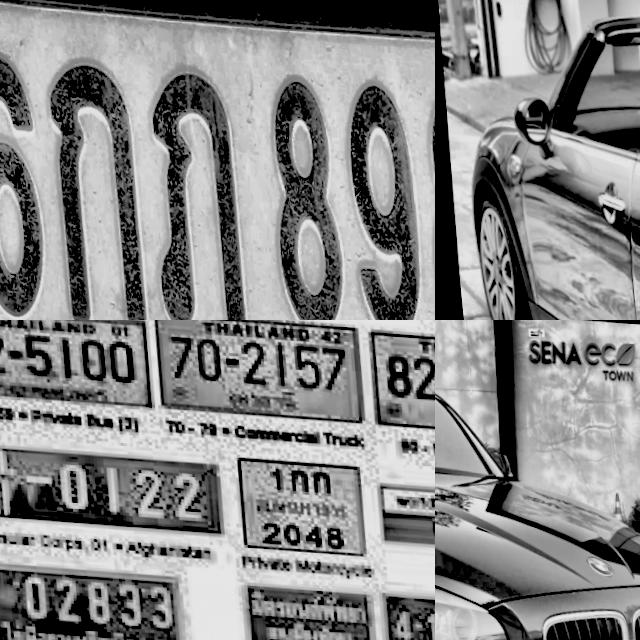license-plate: (0, 0, 435, 320), (145, 320, 358, 417), (227, 455, 357, 548), (0, 320, 145, 401), (361, 322, 435, 432)
